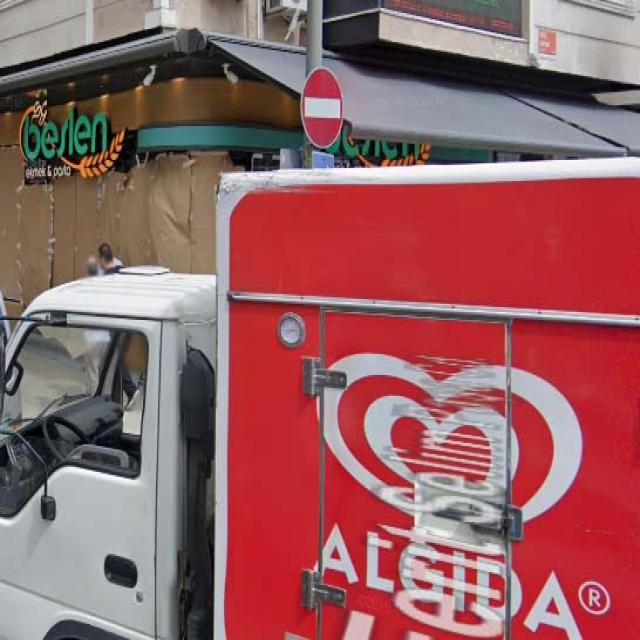girisyok: (300, 66, 344, 149)
